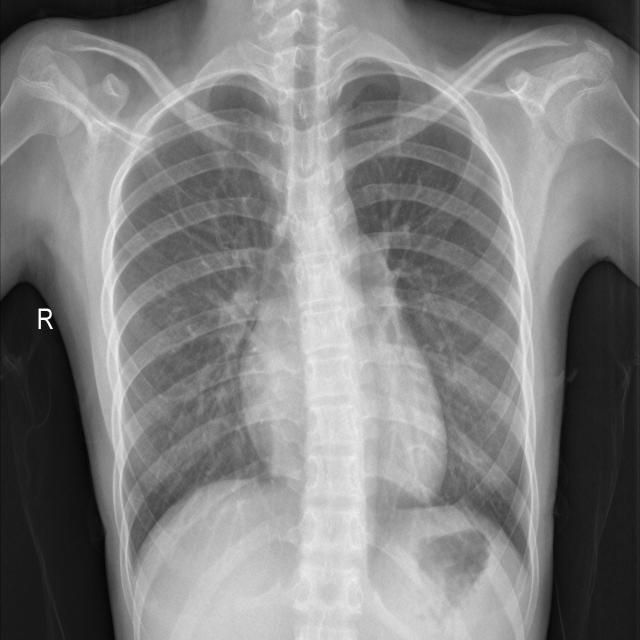no-pneumonia: (341, 59, 533, 566), (106, 67, 286, 560)
